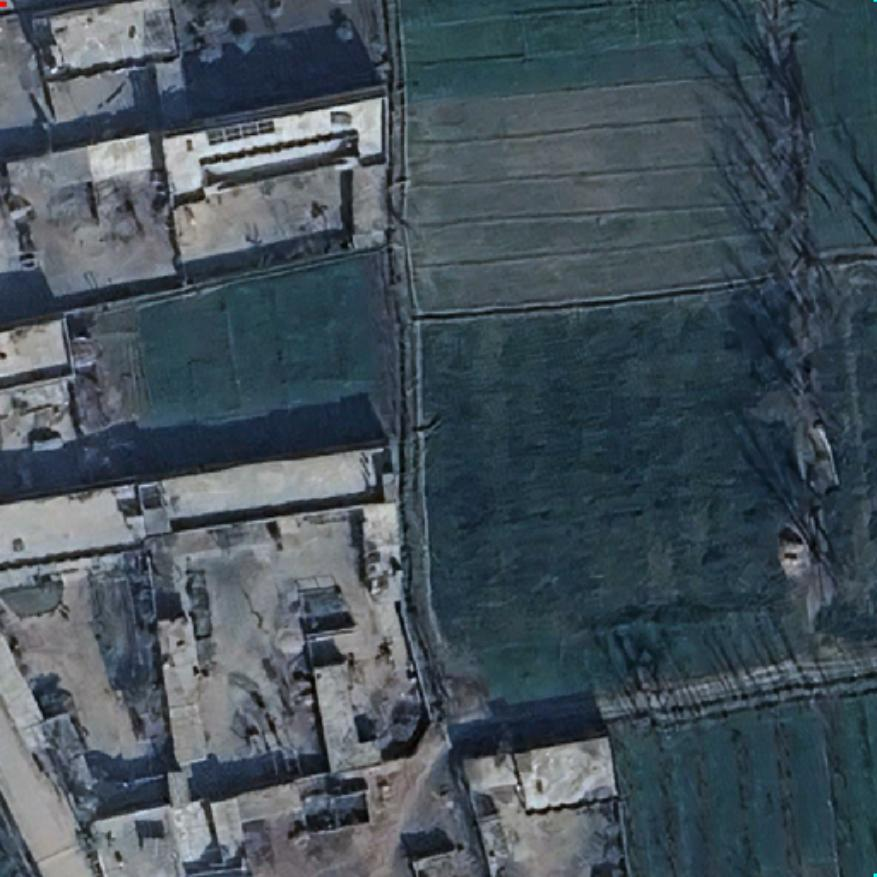Solarpanel: (203, 115, 280, 148)
